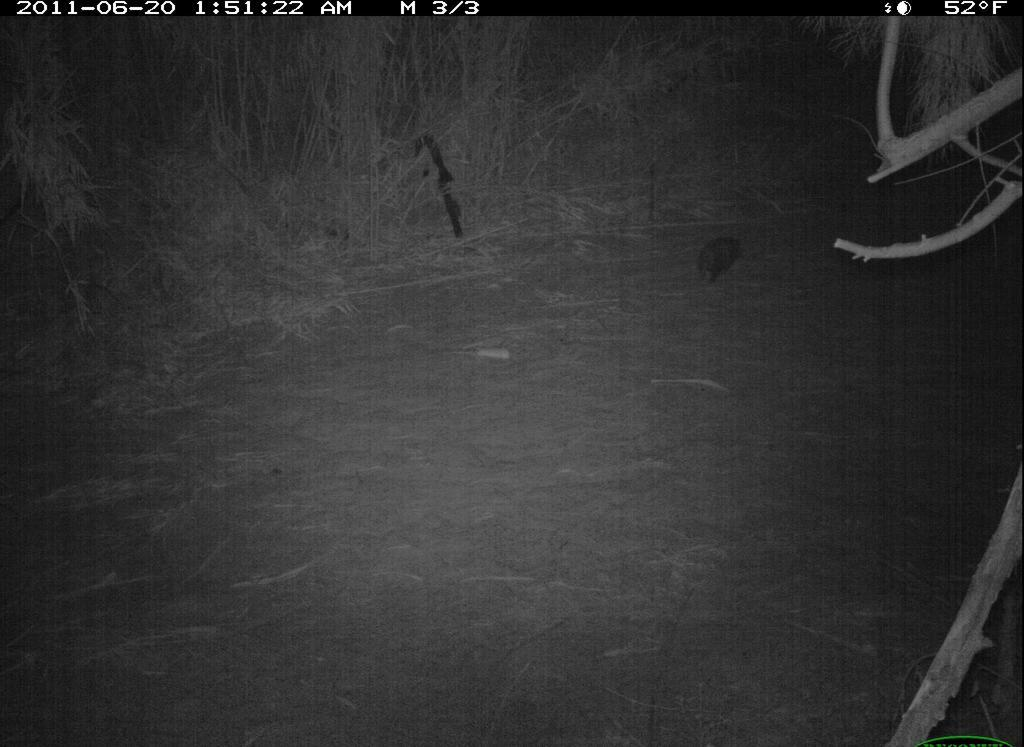opossum: (685, 222, 753, 290)
